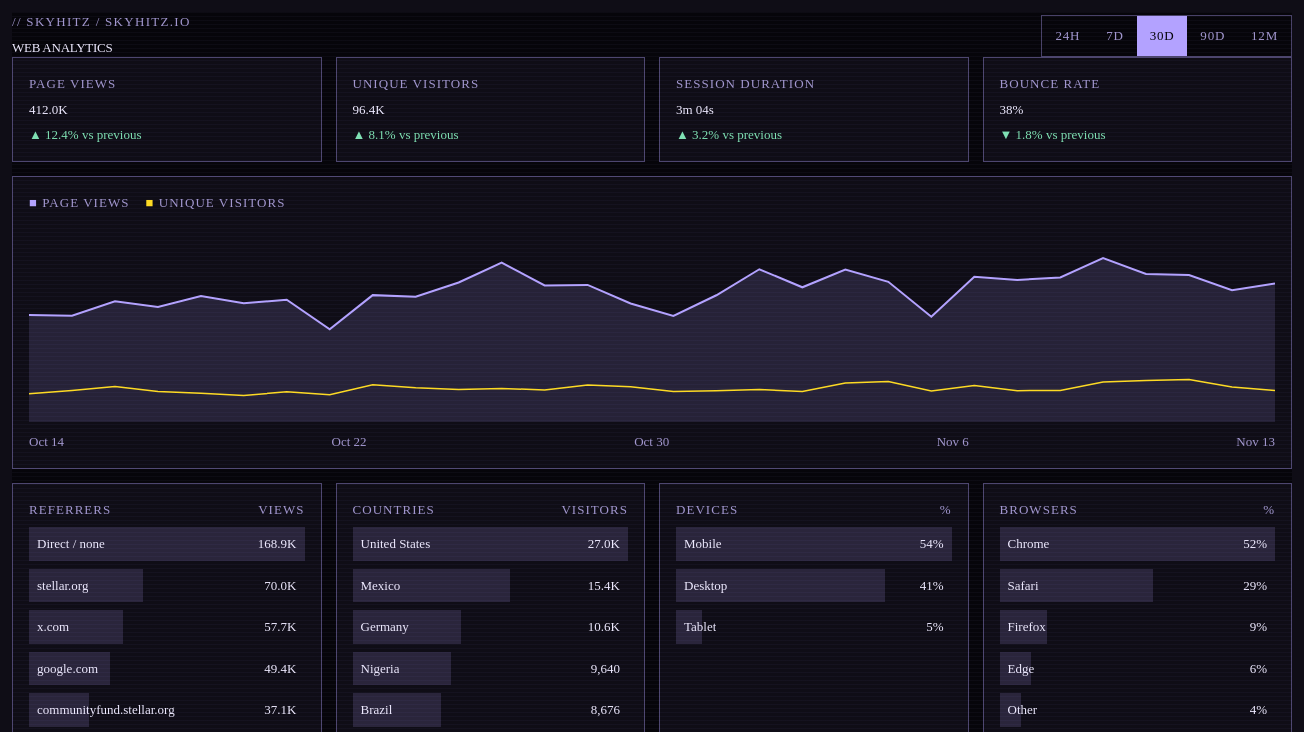
Test: WebAnalyticsScreen › shows the tenant's figures for the selected range
Check: the text "412.0K" is shown, box [29,102,68,116]
Check: the text "▲ 12.4% vs previous" is shown, box [29,127,142,142]
Step 1. Click the button "7D" → (1115, 36), box [1093,16,1137,56]
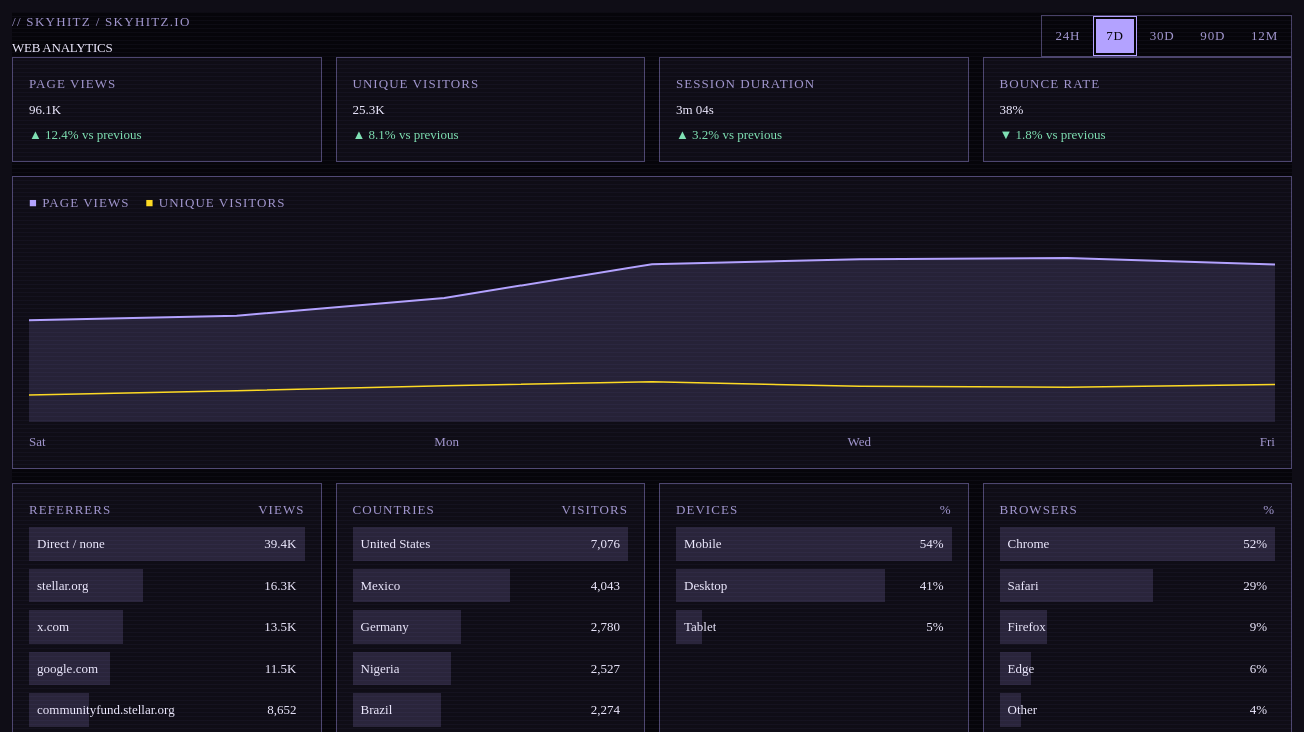
Check: the text "96.1K" is shown, box [29,102,61,116]
Check: the text "Sat" is shown, box [29,432,46,452]
